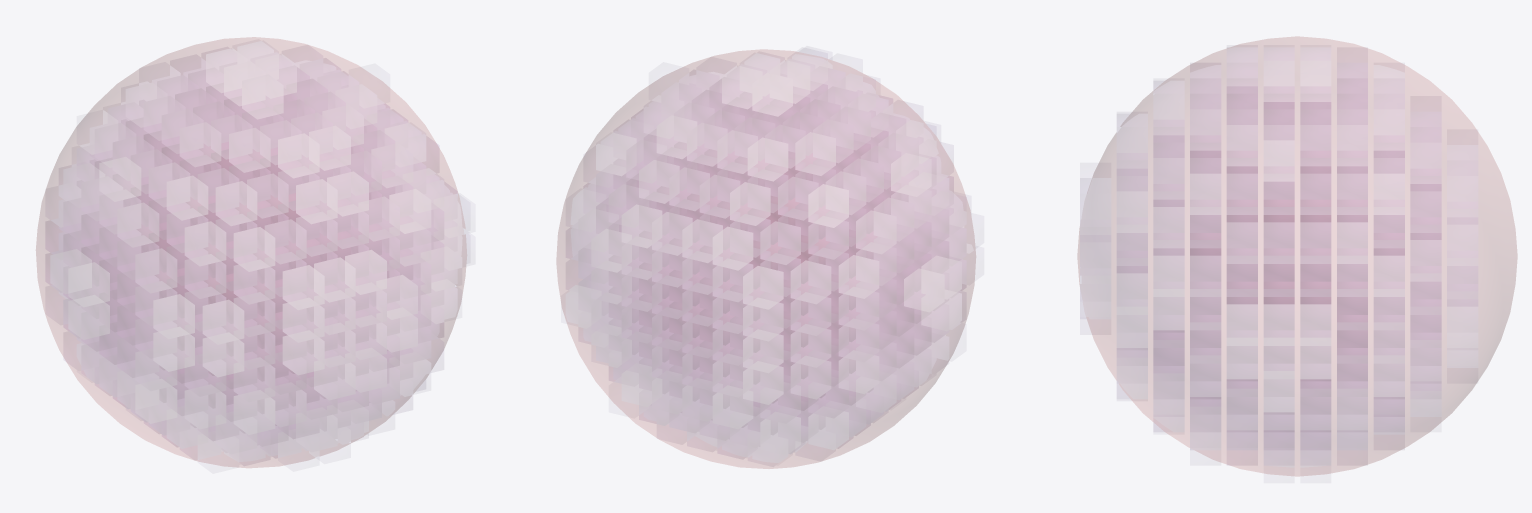
File: energy_translucent.glb
3 views of the same model, side by side, from view 1: azimuth 30°, elevation 25°; view 2: azimuth 150°, elevation 25°; view 3: azimuth 270°, elevation 25° (orthographic). The views are drawn at different scales.
Size of the model in its own units: 6.46 by 6 by 6.46.
